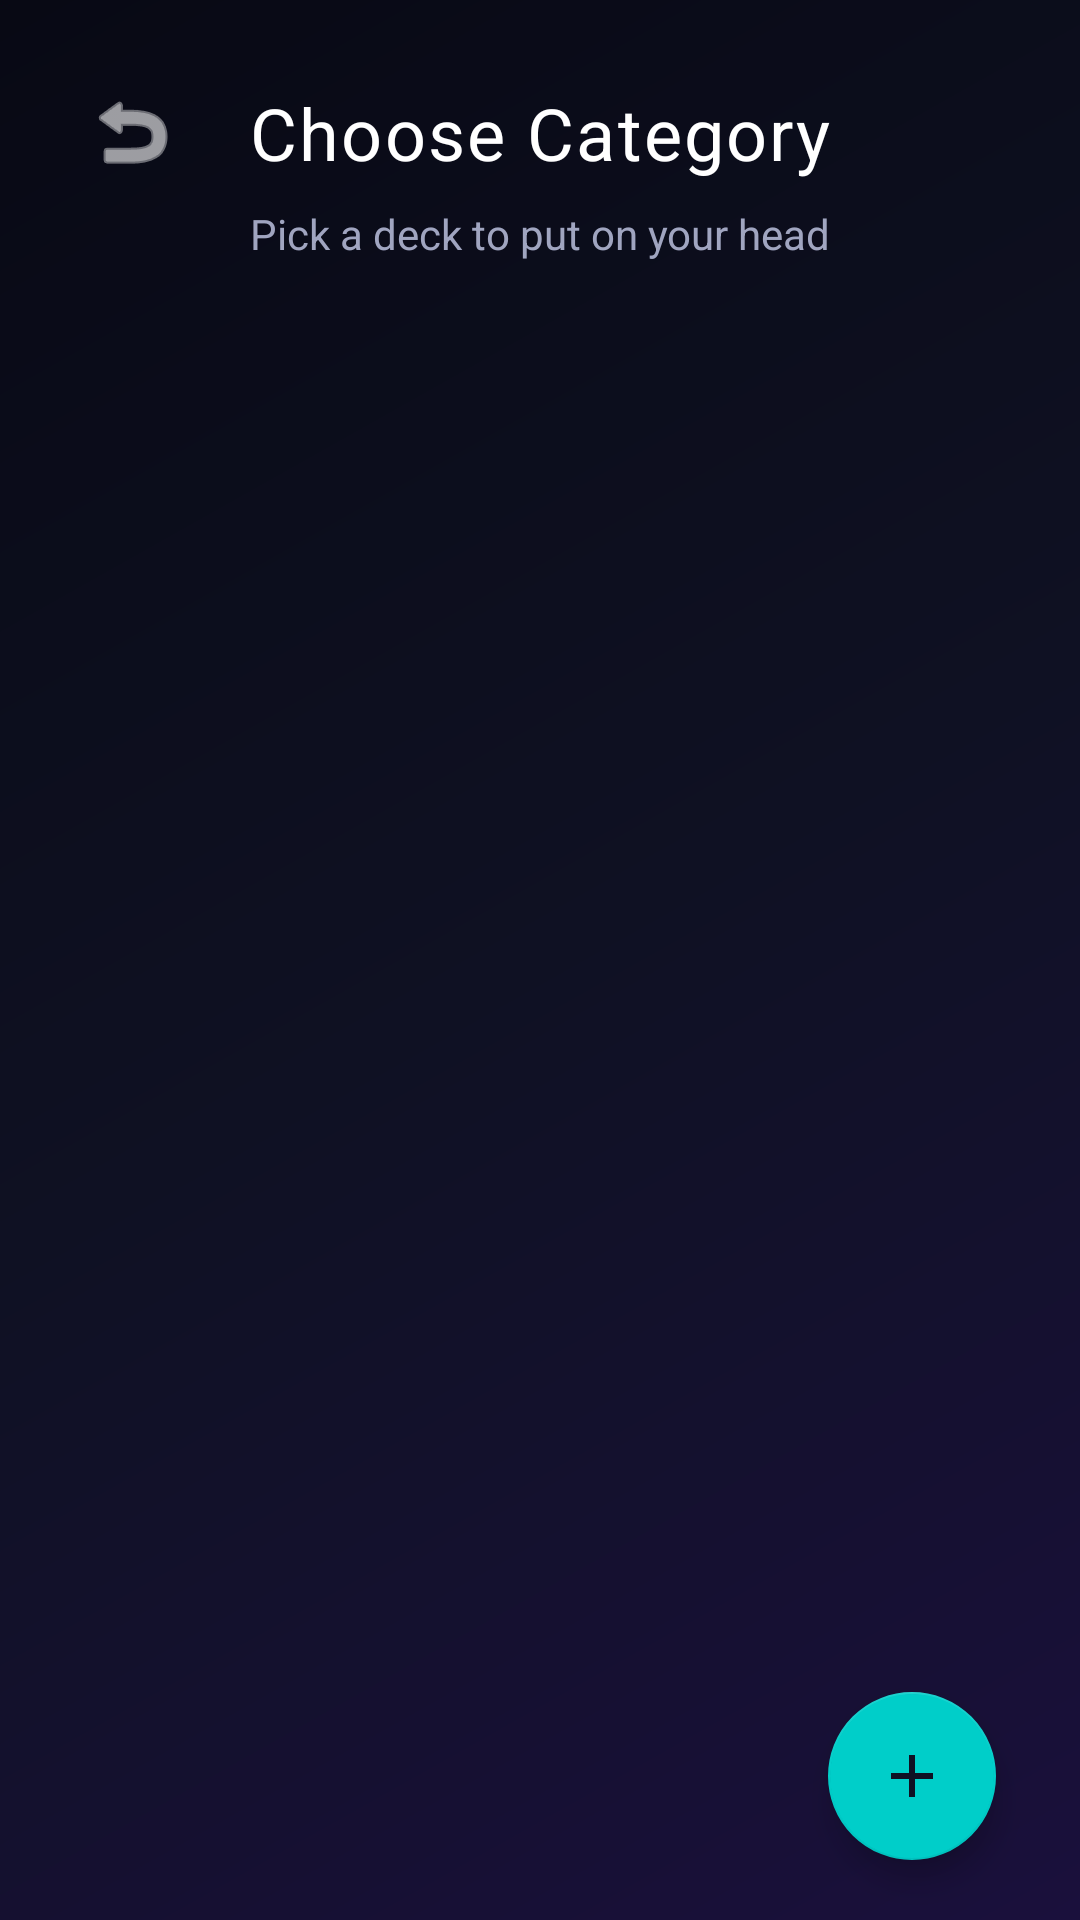

Icons on this 1080px x 1920px Android screen, each with its box as {"left": x1, "top": y1, "right": x2, "bottom": y2}:
Add category: {"left": 828, "top": 1692, "right": 996, "bottom": 1860}
Back: {"left": 99, "top": 101, "right": 168, "bottom": 164}
